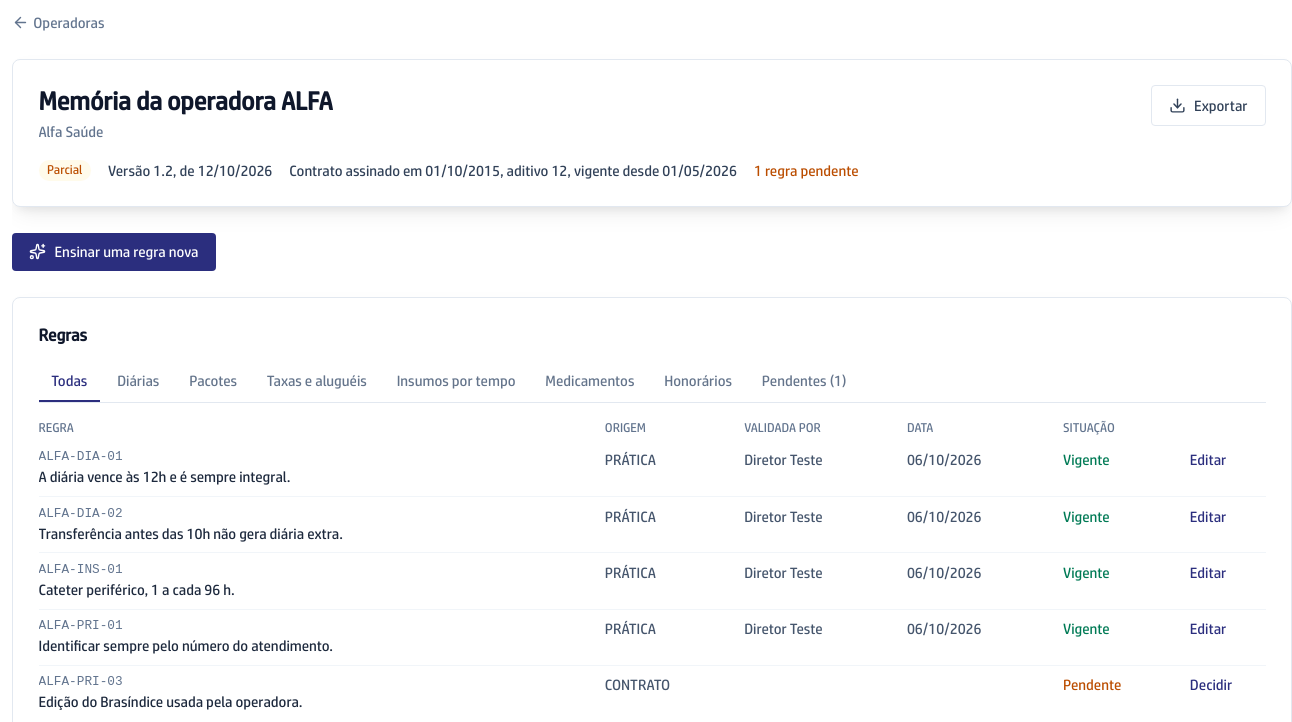
Scenario: as abas › tem as oito abas e cada uma filtra as regras da seção; Pendentes mostra só as pendentes
Click the tab "Diárias": (138, 382) [104, 361, 172, 402]
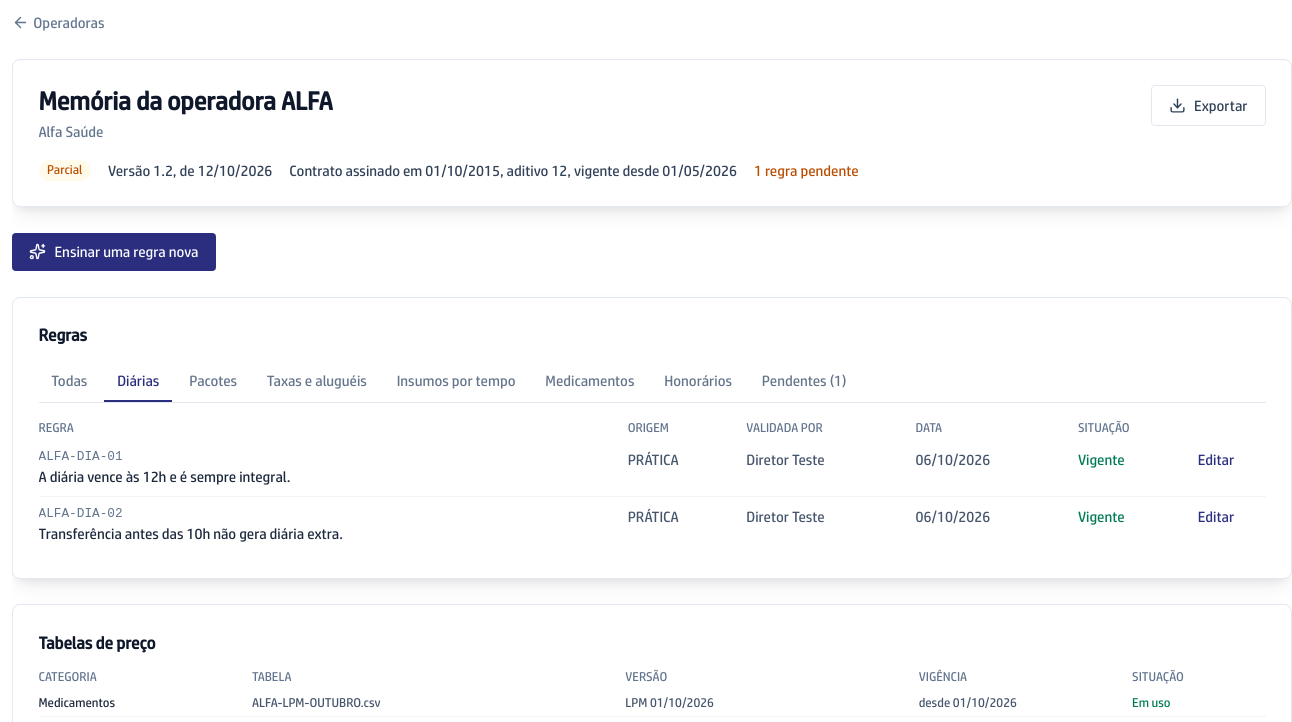
Click the tab "Insumos por tempo": (456, 382) [384, 361, 528, 402]
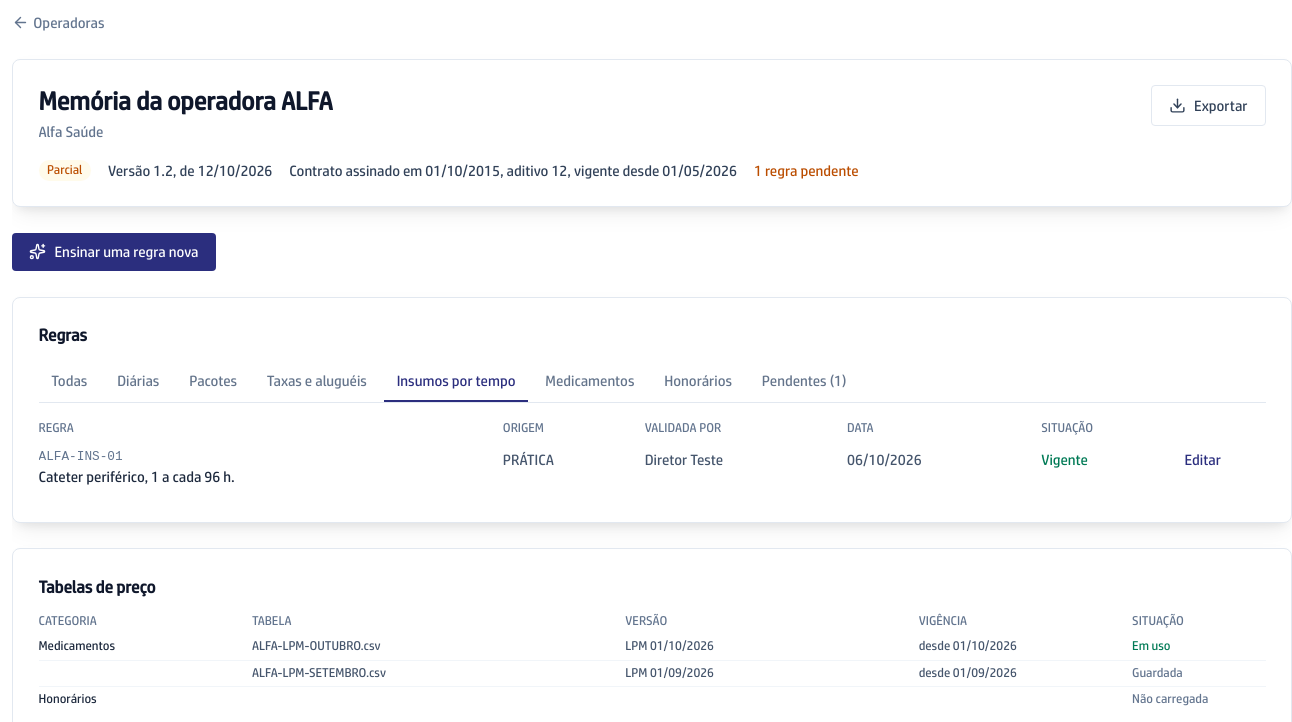
Click the tab "Pendentes (1)": (804, 382) [749, 361, 859, 402]
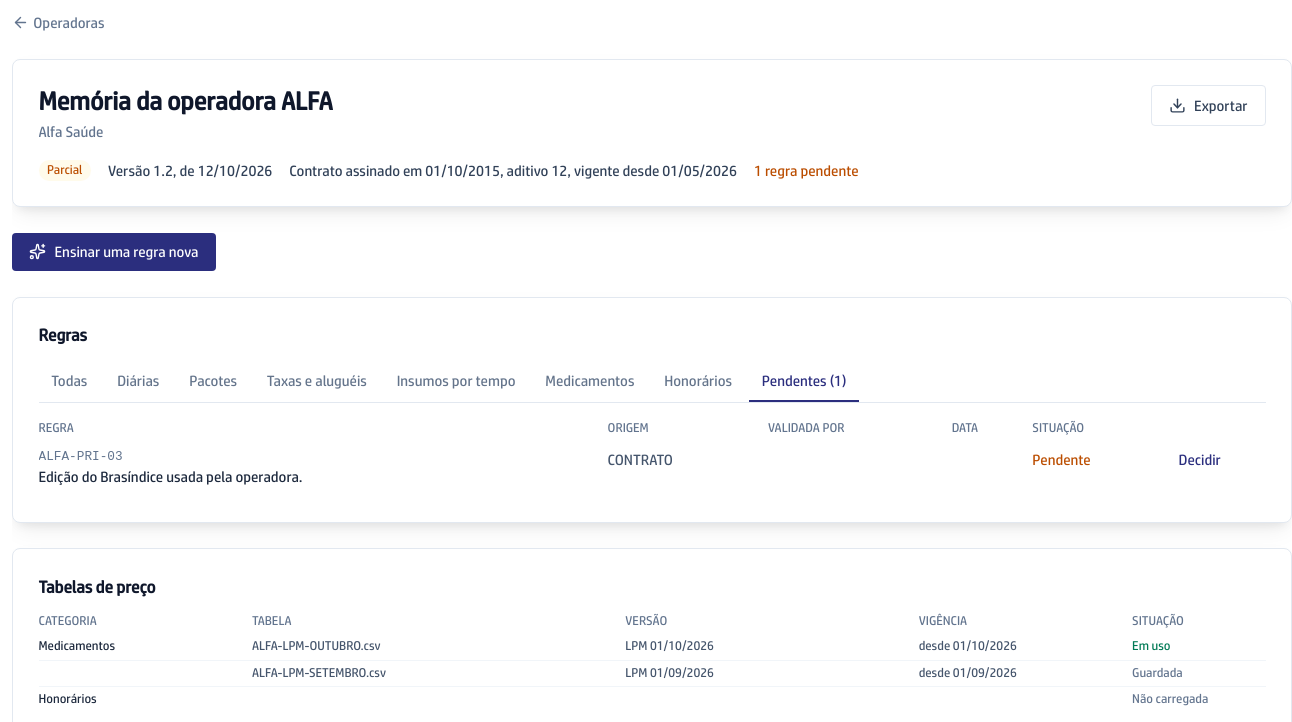
Click the tab "Pacotes": (213, 382) [176, 361, 250, 402]
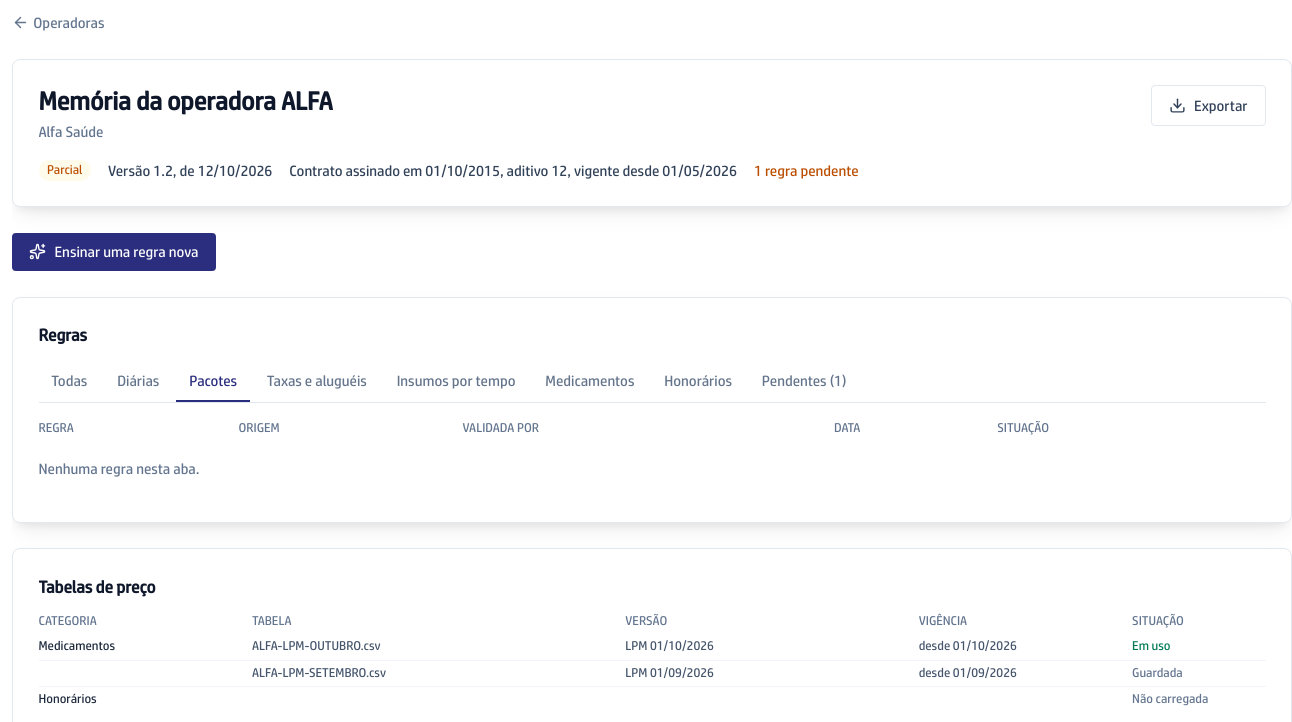
expect the text "Nenhuma regra nesta aba." is shown: met, box [38, 441, 1266, 496]
